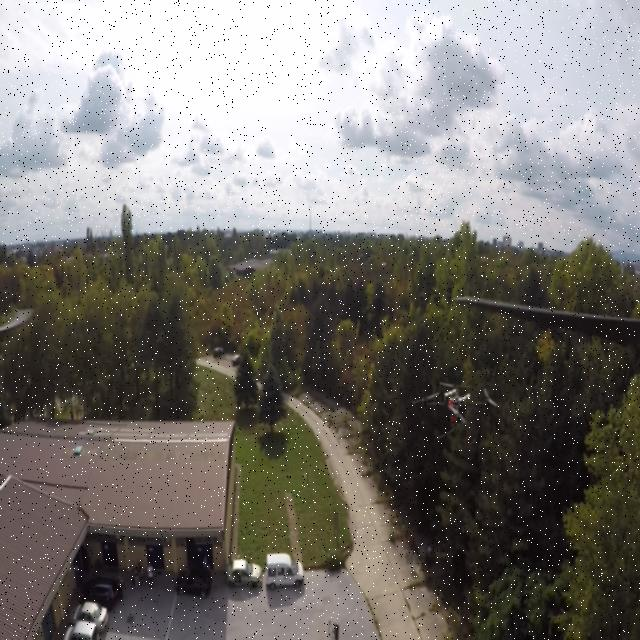UAV: (413, 376, 498, 451)
